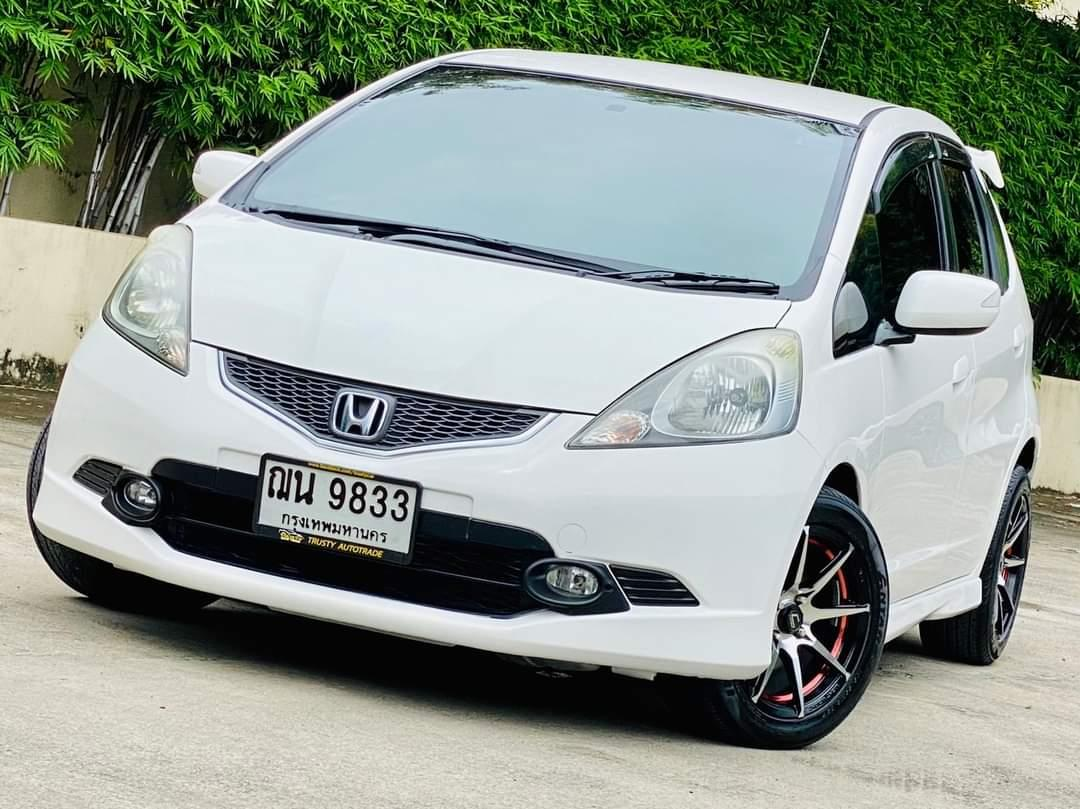license-plate: (249, 448, 425, 571)
